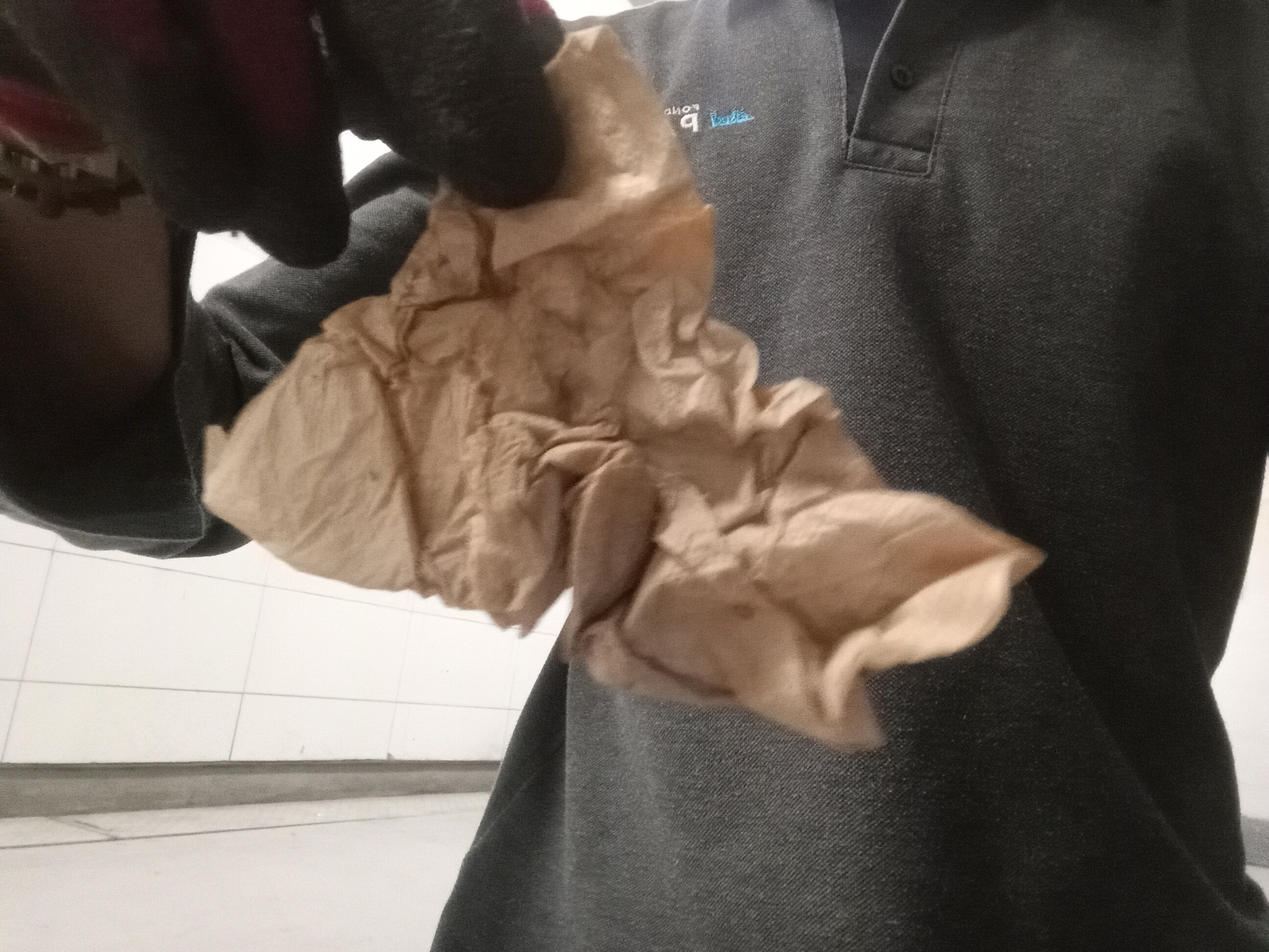Ordinario: (199, 23, 1045, 753)
